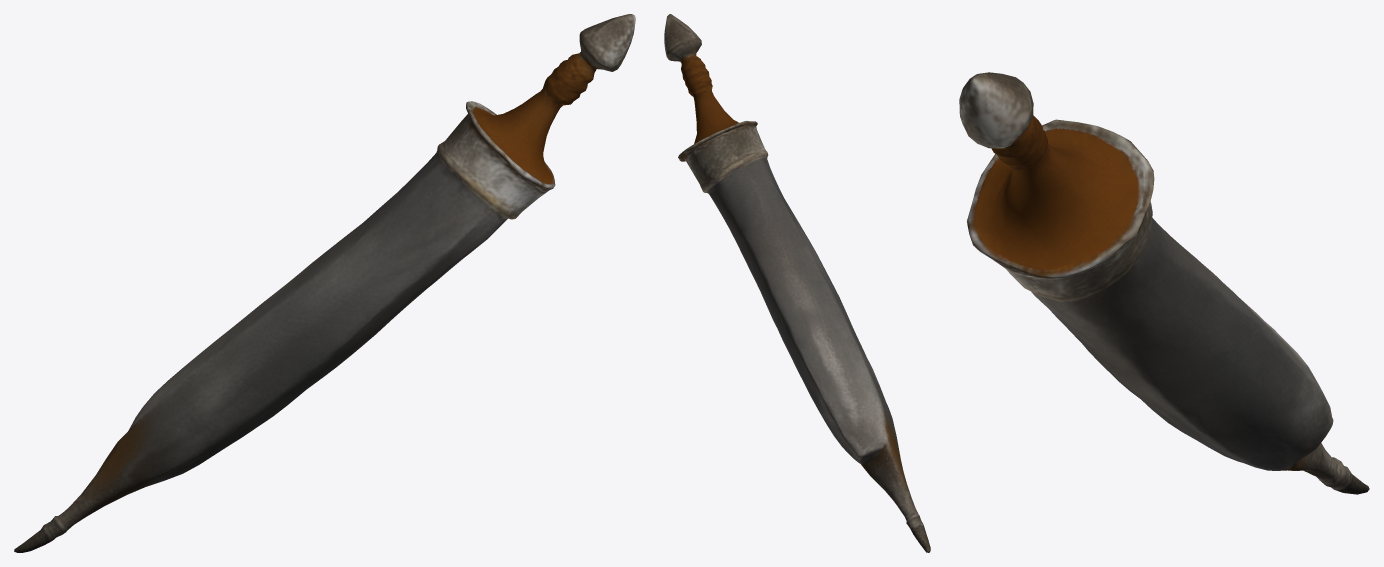
The model's file is sword6.glb.
The picture shows the model from 3 angles, left to right: view 1: azimuth 30°, elevation 25°; view 2: azimuth 150°, elevation 25°; view 3: azimuth 270°, elevation 25°; orthographic projection. The views are drawn at different scales.
Visible parts, largest first — view 1: geometry_0; view 2: geometry_0; view 3: geometry_0.
Boxes of the visible parts, x1=… form: geometry_0: x1=14, y1=14, x2=635, y2=552; geometry_0: x1=664, y1=14, x2=930, y2=552; geometry_0: x1=959, y1=72, x2=1369, y2=494.
Size of the model in its own units: 0.9909 by 1 by 0.4894.
Materials: 1 (1 with a texture image).
